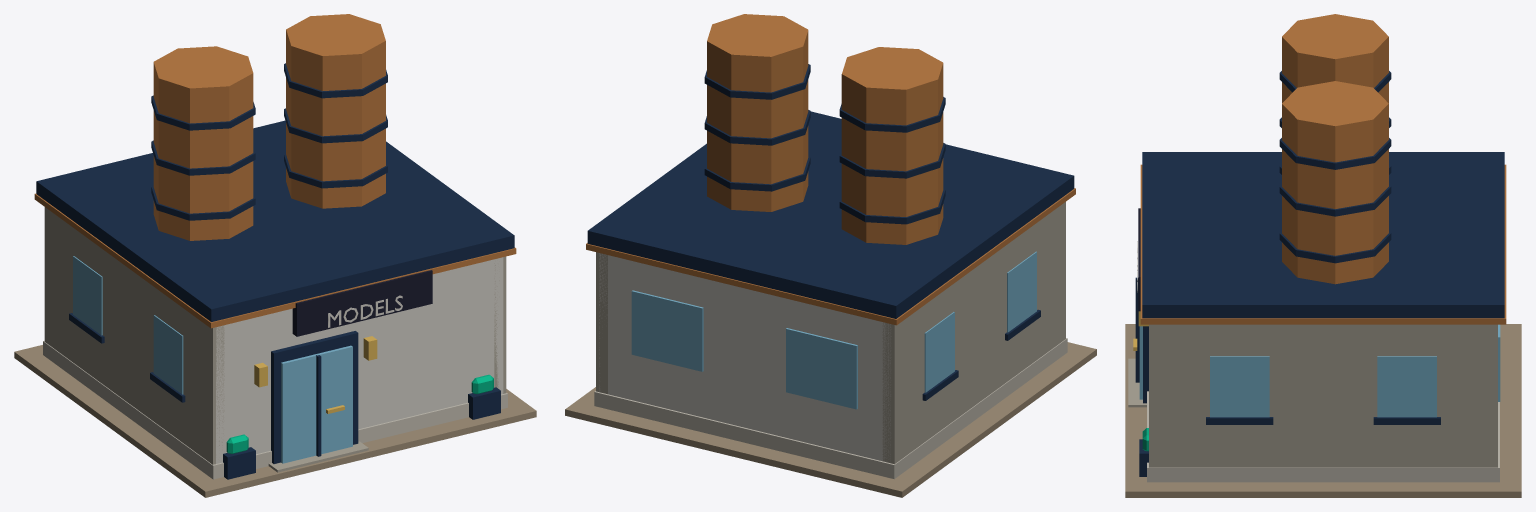
The model's file is model-boilerhouse-CnQrApBf.glb.
3 views of the same model, side by side, from view 1: azimuth 30°, elevation 25°; view 2: azimuth 150°, elevation 25°; view 3: azimuth 270°, elevation 25° (orthographic). The views are drawn at different scales.
Visible parts, largest first — view 1: Architecture; view 2: Architecture; view 3: Architecture.
Boxes of the visible parts, bbox=[...] form: Architecture: bbox=[14, 14, 536, 497]; Architecture: bbox=[565, 14, 1096, 497]; Architecture: bbox=[1125, 14, 1521, 497].
Size of the model in its own units: 10 by 9.58 by 10.
